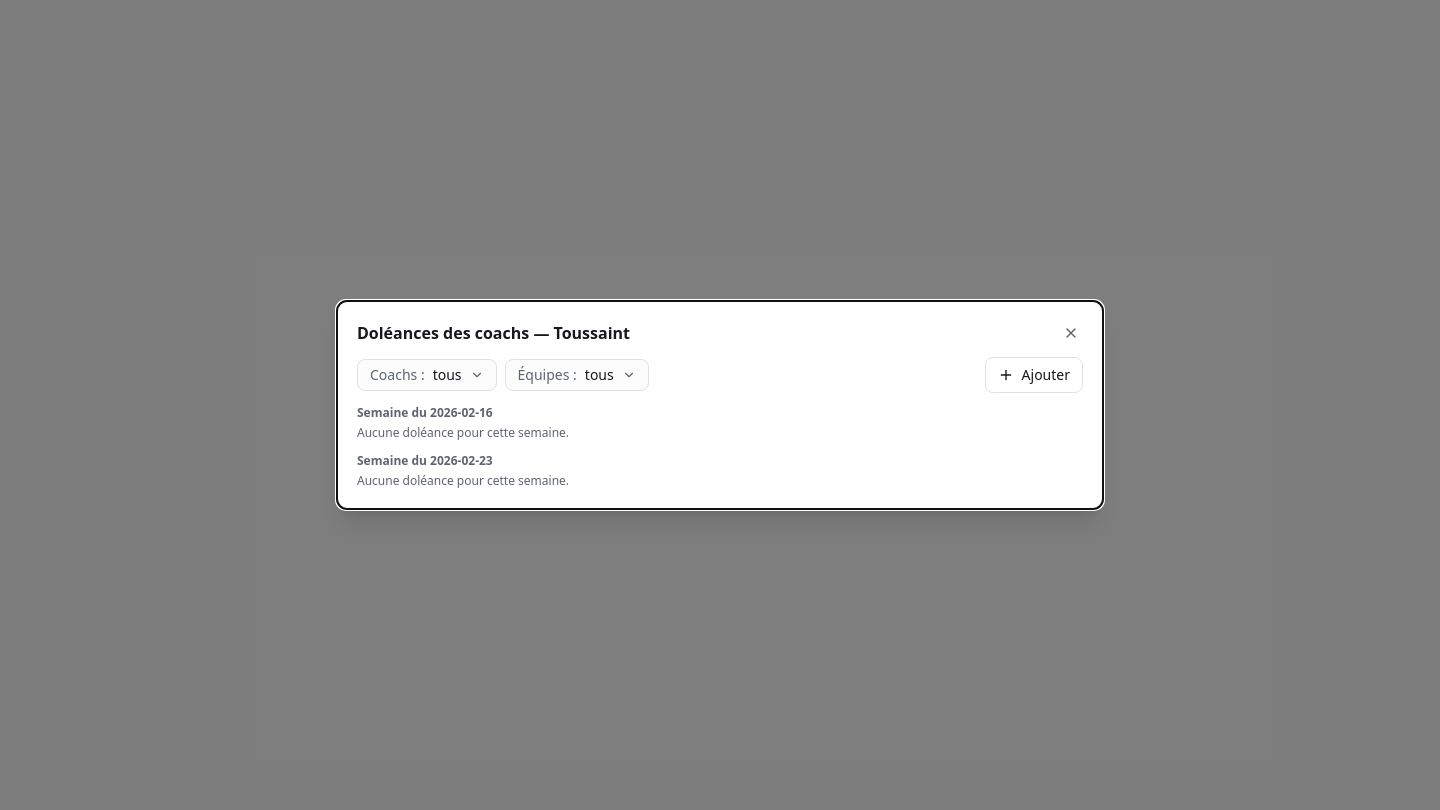
it: CoachWishesModal › groupe les coachs du filtre par staffing
Step 1. Click the button "Coachs : tous" → (427, 375), box [357,359,496,391]
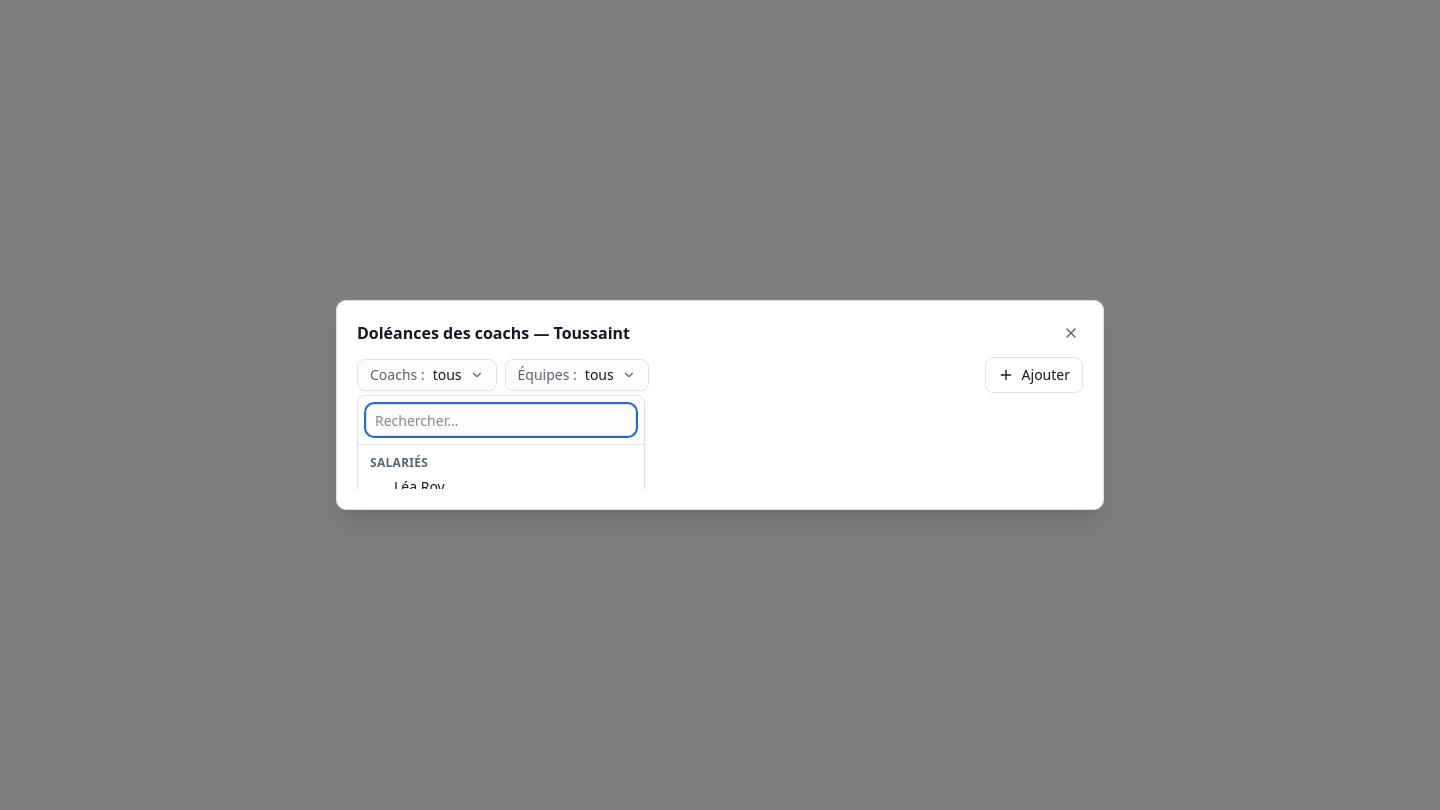
Now the text "Salariés" is shown, box [370,454,428,471]
